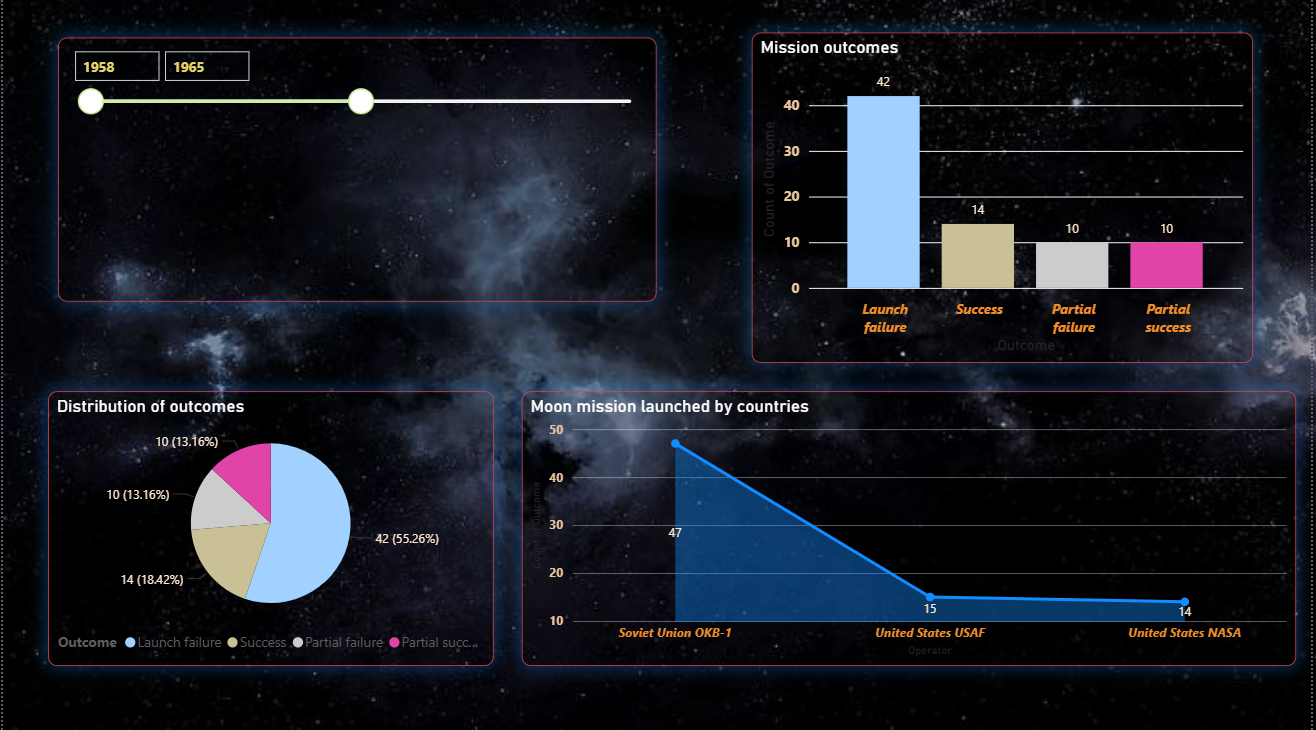

This screenshot's page, from the dashboard's own definition file:
{"tool":"powerbi","page":{"name":"Page 1","canvas":[1280,720],"ordinal":0},"visuals":[{"type":"slicer","fields":{"Values":["Moon_Mission_Analysis_160.Launch Date.Variation.Date Hierarchy.Year"]},"box":[72.5,20,585,257.5],"z":0},{"type":"columnChart","title":"Mission outcomes","fields":{"Category":["Moon_Mission_Analysis_160.Outcome"],"Y":["CountNonNull(Moon_Mission_Analysis_160.Outcome)"]},"box":[773.8,10,491.2,322.5],"z":1000},{"type":"pieChart","title":"Distribution of outcomes","fields":{"Category":["Moon_Mission_Analysis_160.Outcome"],"Y":["CountNonNull(Moon_Mission_Analysis_160.Operator)"]},"box":[43.8,387.5,436.2,268.8],"z":2000},{"type":"stackedAreaChart","title":"Moon mission launched by countries","fields":{"Category":["Moon_Mission_Analysis_160.Operator"],"Y":["CountNonNull(Moon_Mission_Analysis_160.Outcome)"]},"box":[507.5,387.5,757.5,268.8],"z":3000}]}

Visuals, with their boxes in screenshot pixels (x1, y1, x2, y2), scaled from the page's 1280x720 canvas onto the 1316x730 screenshot:
slicer - Moon_Mission_Analysis_160.Launch Date.Variation.Date Hierarchy.Year: x1=75 y1=20 x2=676 y2=281
"Mission outcomes" columnChart: x1=796 y1=10 x2=1301 y2=337
"Distribution of outcomes" pieChart: x1=45 y1=393 x2=494 y2=665
"Moon mission launched by countries" stackedAreaChart: x1=522 y1=393 x2=1301 y2=665
